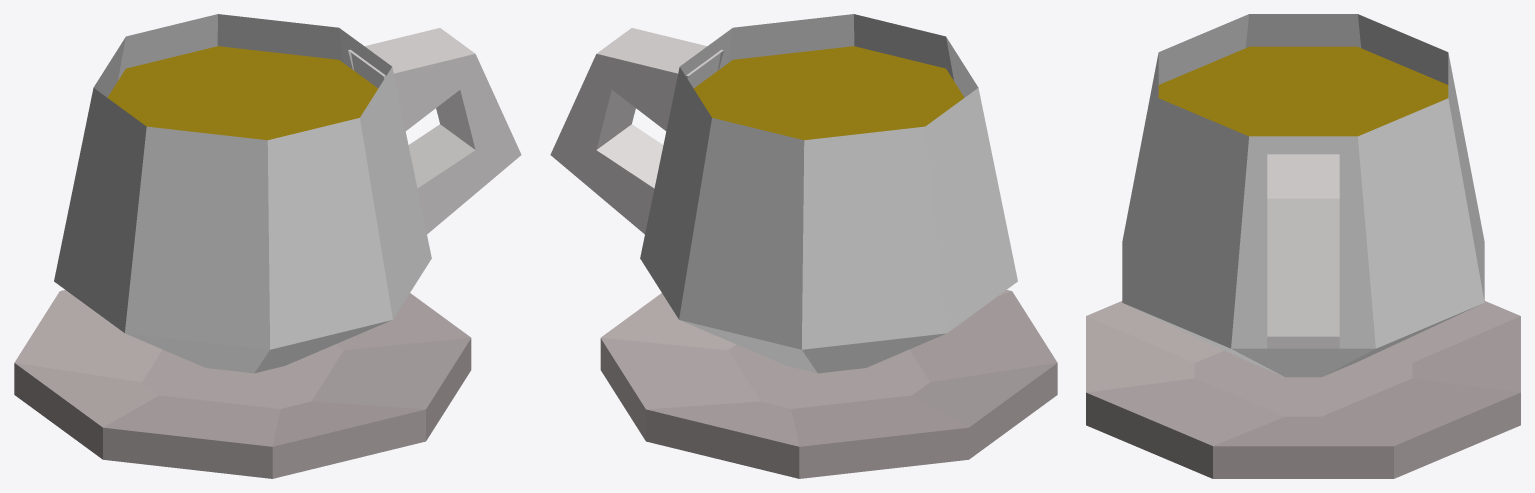
The model's file is inv_cup_of_tea_2.obj.
3 renders of one model, left to right at view 1: azimuth 30°, elevation 25°; view 2: azimuth 150°, elevation 25°; view 3: azimuth 270°, elevation 25°, orthographic. The views are drawn at different scales.
Bounding box in the file's own units: 0.2266 × 0.1484 × 0.1875.
